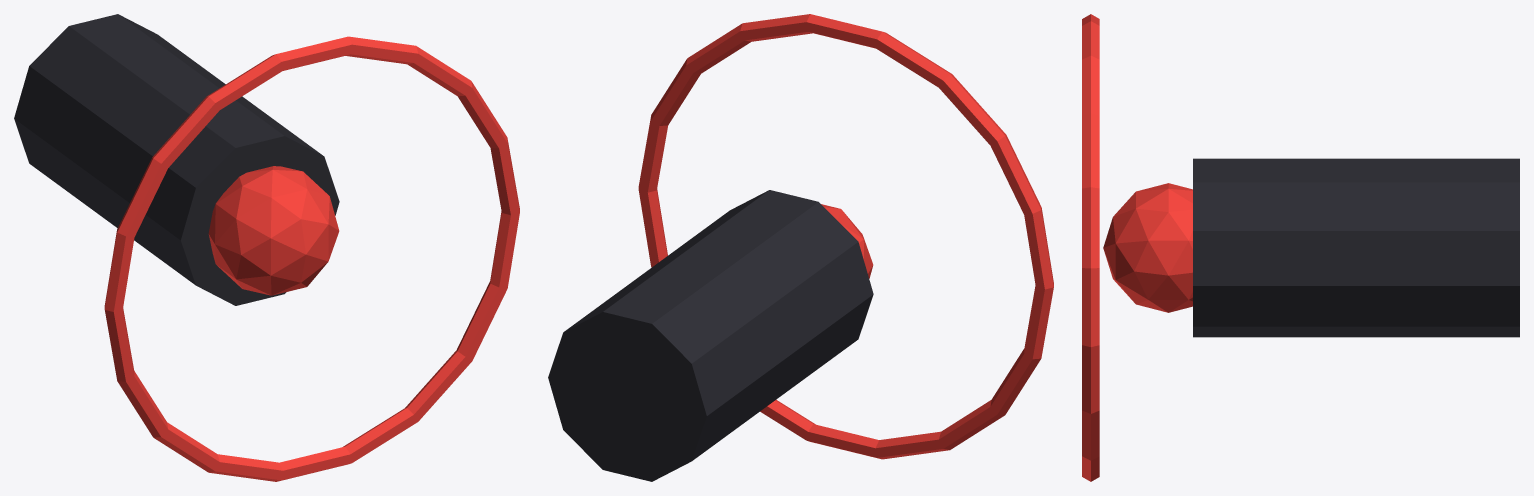
File: laser_designator_beacon.glb
3 views of the same model, side by side, from view 1: azimuth 30°, elevation 25°; view 2: azimuth 150°, elevation 25°; view 3: azimuth 270°, elevation 25° (orthographic). The views are drawn at different scales.
Parts seen in each view (by area): view 1: body, signal, lens; view 2: body, signal, lens; view 3: body, lens, signal.
Part boxes in pixels (x1,y1,x2,y2): body: (14, 14, 339, 305); signal: (104, 36, 519, 481); lens: (208, 166, 339, 295); body: (548, 190, 873, 481); signal: (638, 14, 1053, 459); lens: (821, 204, 873, 278); body: (1193, 158, 1519, 337); lens: (1103, 183, 1192, 312); signal: (1082, 14, 1099, 481).
Size of the model in its own units: 1.15 by 1.13 by 1.07.
